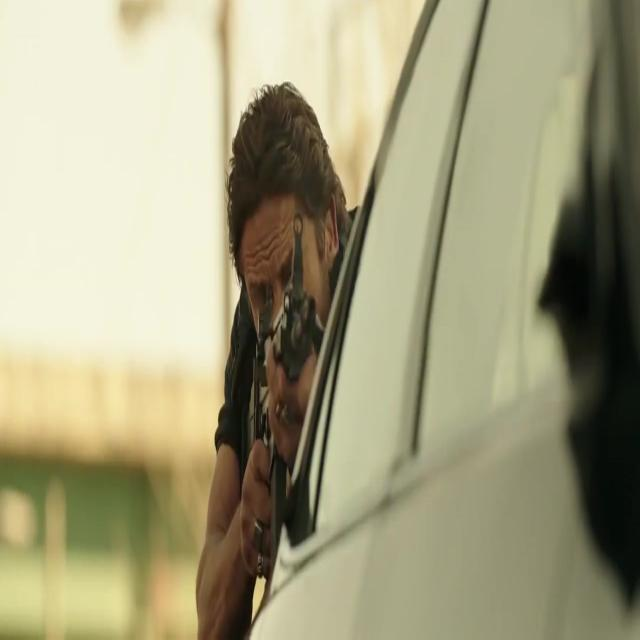Weapon: (256, 269, 321, 542)
